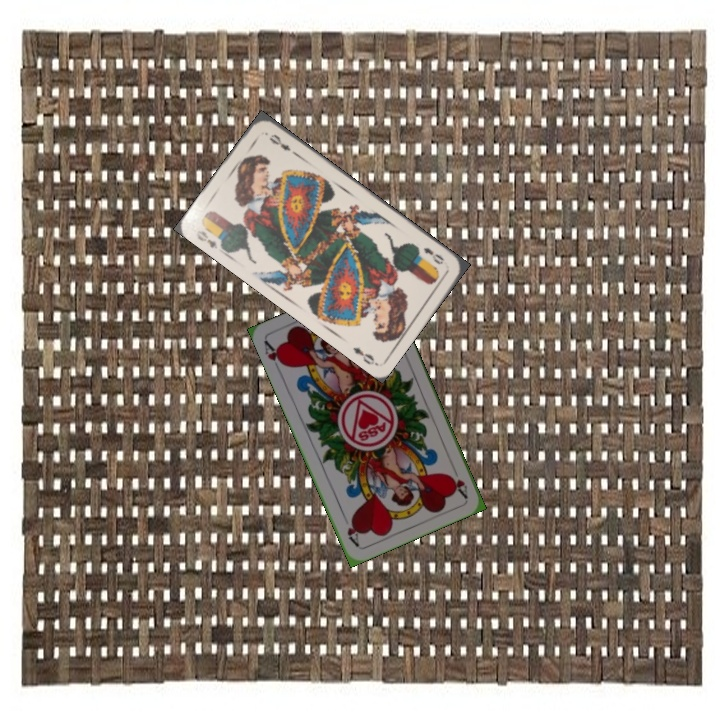EO: (192, 226, 220, 251), (419, 243, 447, 267)
HA: (260, 337, 288, 375), (445, 461, 470, 500)
